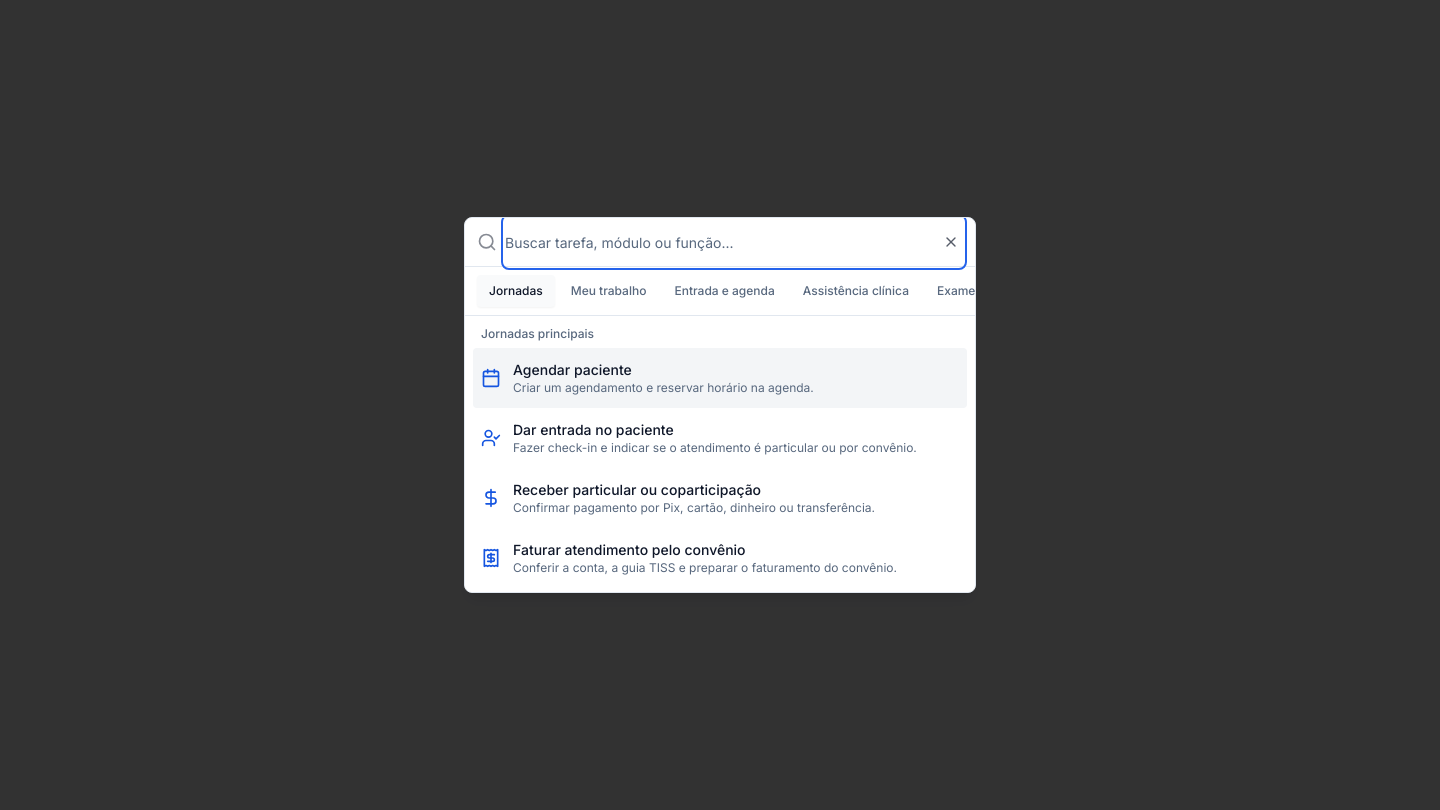
Test case: ModuleLauncher › searches the full authorized catalog by payment terms
Type "pix" into the dropdown with placeholder "Buscar tarefa, módulo ou função..." at (734, 242), box x1=505 y1=218 x2=963 y2=266
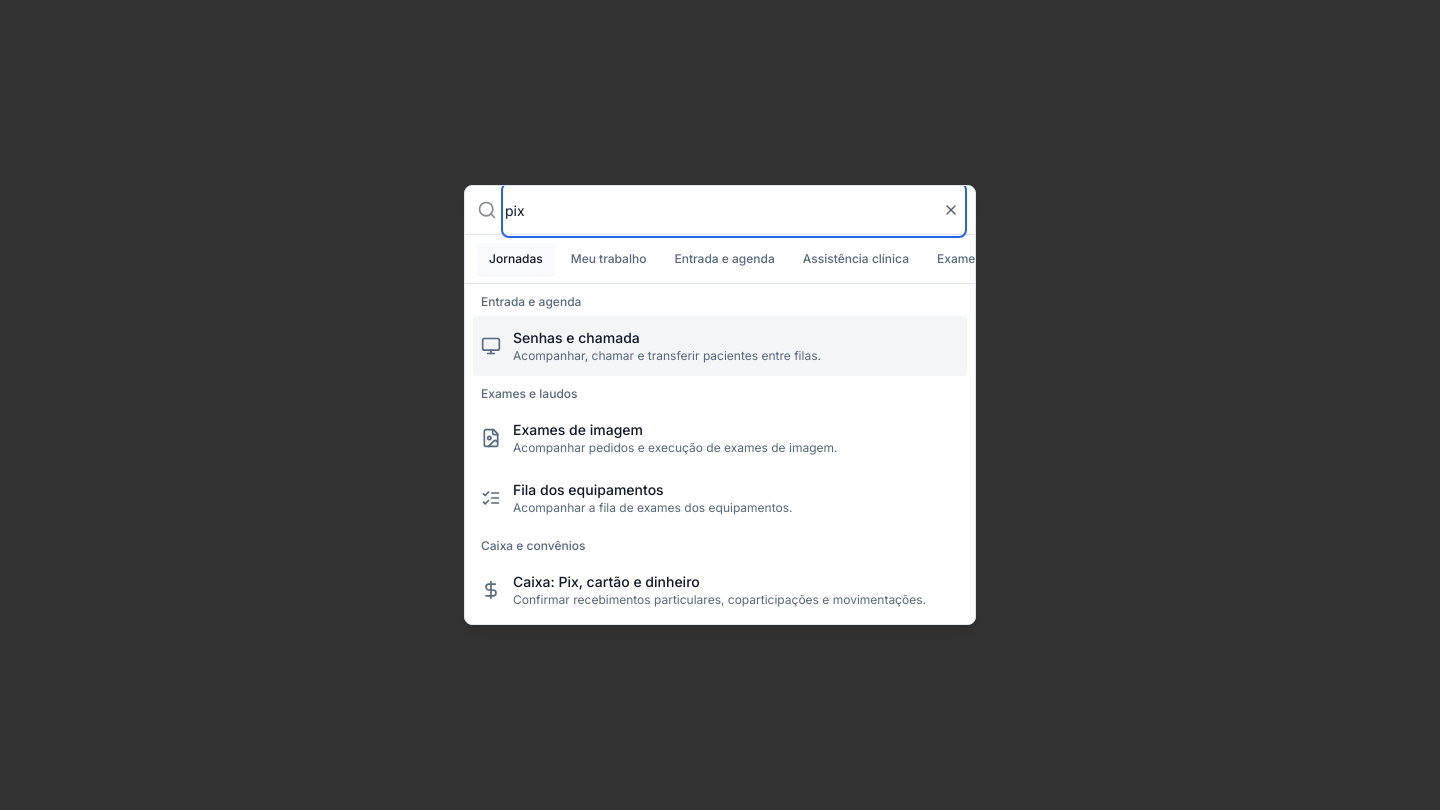
Check: the text "Caixa: Pix, cartão e dinheiro" is shown, box x1=513 y1=573 x2=700 y2=590
